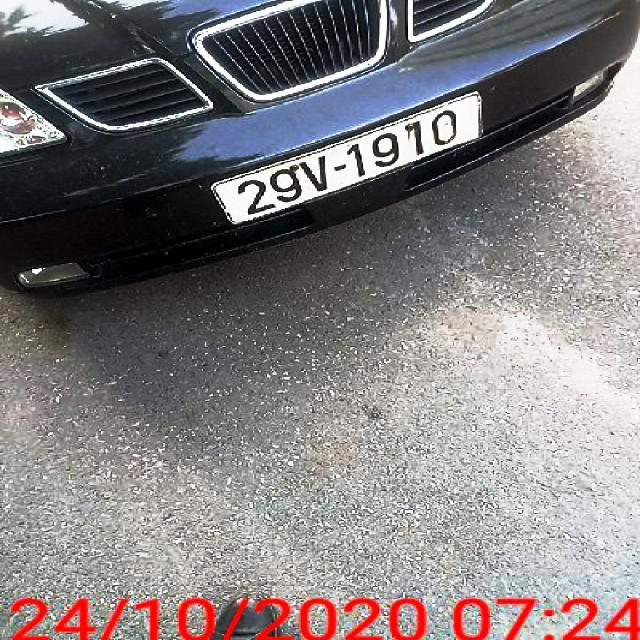license_plate: (213, 94, 485, 222)
